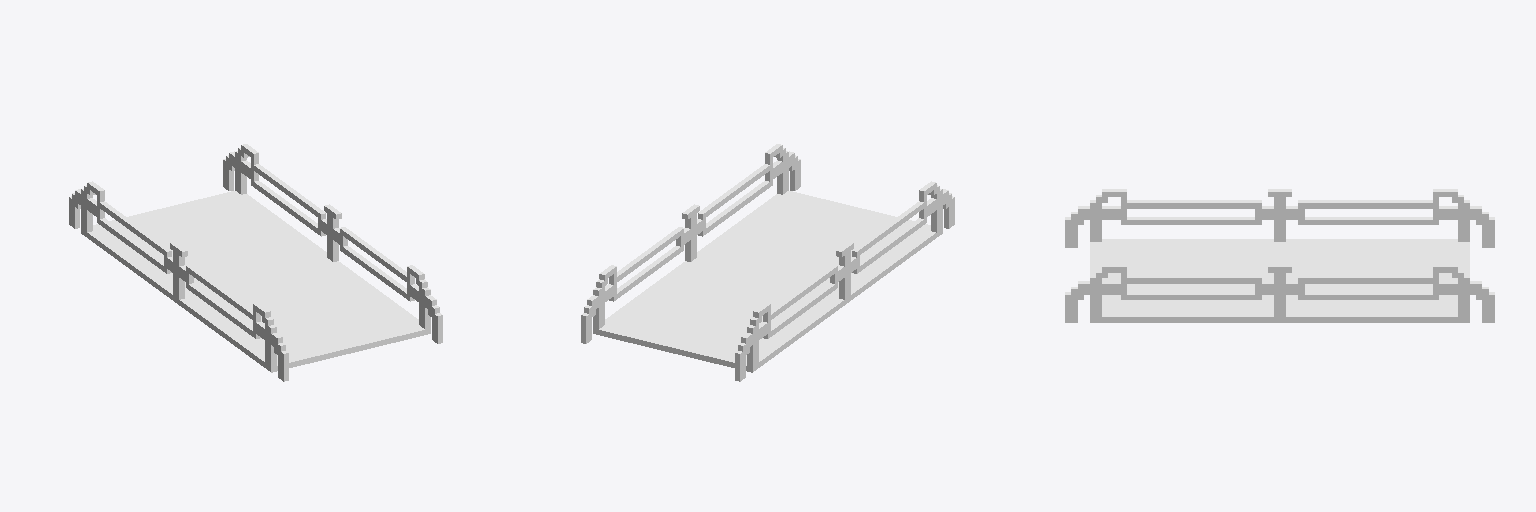
The model's file is woodbridge.obj.
3 views of the same model, side by side, from view 1: azimuth 30°, elevation 25°; view 2: azimuth 150°, elevation 25°; view 3: azimuth 270°, elevation 25° (orthographic).
Parts seen in each view (by area): view 1: object 1; view 2: object 1; view 3: object 1.
Part boxes in pixels (left/top/right/bottom): object 1: left=69, top=144, right=442, bottom=381; object 1: left=581, top=144, right=954, bottom=381; object 1: left=1065, top=189, right=1494, bottom=322.
Size of the model in its own units: 3 by 1 by 7.